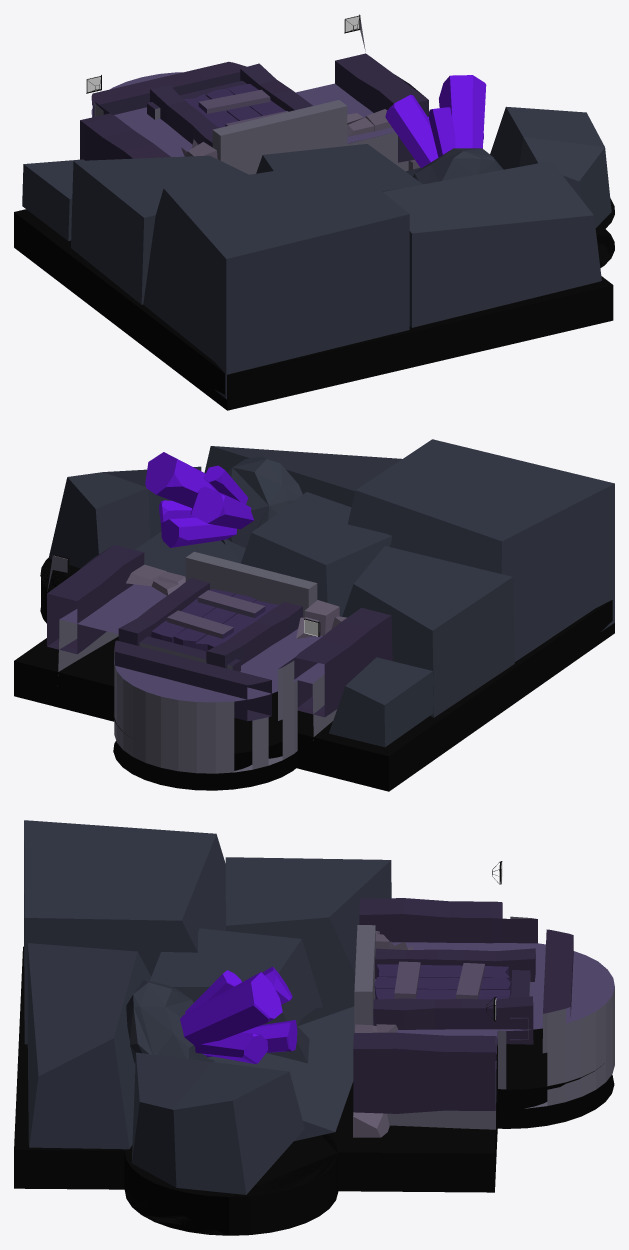
The model's file is peça 3.fbx.
3 views of the same model, one above another, from view 1: azimuth 30°, elevation 25°; view 2: azimuth 150°, elevation 25°; view 3: azimuth 270°, elevation 25° (orthographic). The views are drawn at different scales.
Parts seen in each view (by area): view 1: Cube.035, 3, peça3, crystal_basalt_purple.001; view 2: Cube.035, 3, peça3, crystal_basalt_purple.001; view 3: Cube.035, 3, peça3, crystal_basalt_purple.001.
Part boxes in pixels (x1,y1,x2,y2): Cube.035: [22, 106, 611, 399]; 3: [80, 14, 429, 174]; peça3: [14, 141, 614, 410]; crystal_basalt_purple.001: [385, 75, 503, 184]; Cube.035: [48, 439, 614, 747]; 3: [47, 545, 392, 773]; peça3: [14, 558, 614, 791]; crystal_basalt_purple.001: [145, 452, 302, 547]; Cube.035: [24, 820, 497, 1194]; 3: [353, 861, 614, 1137]; peça3: [14, 946, 614, 1235]; crystal_basalt_purple.001: [126, 966, 297, 1064].
Size of the model in its own units: 1383 by 491 by 1402.
